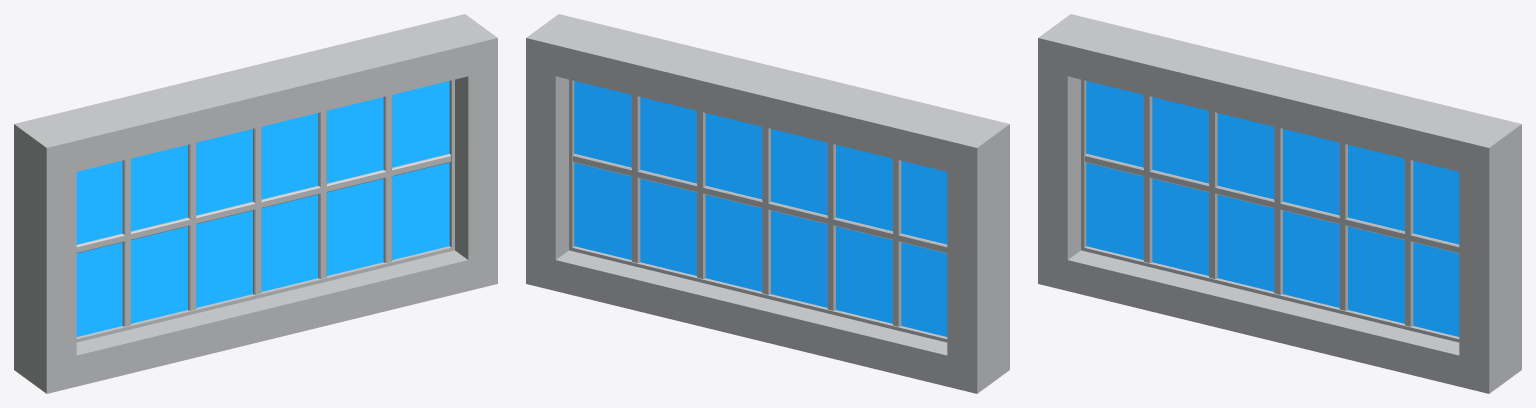
Rendered from janela_larga_grade_6x2_branca.glb.
The picture shows the model from 3 angles, left to right: view 1: azimuth 30°, elevation 25°; view 2: azimuth 150°, elevation 25°; view 3: azimuth 330°, elevation 25°; orthographic projection.
Visible parts, largest first — view 1: janela_larga_grade_6x2_branca; view 2: janela_larga_grade_6x2_branca; view 3: janela_larga_grade_6x2_branca.
Part boxes in pixels (left/top/right/bottom): janela_larga_grade_6x2_branca: left=14, top=14, right=497, bottom=393; janela_larga_grade_6x2_branca: left=526, top=14, right=1009, bottom=393; janela_larga_grade_6x2_branca: left=1038, top=14, right=1521, bottom=393.
Size of the model in its own units: 1.67 by 0.87 by 0.21.
